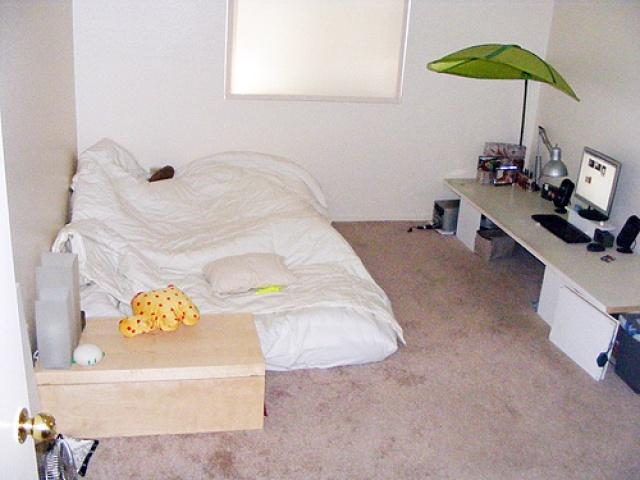AIO PC-Monitor-TV: (570, 144, 621, 221)
Meja: (443, 173, 639, 314)
